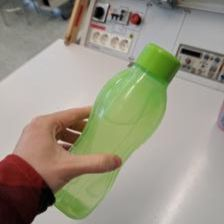bottle: (48, 43, 182, 218)
